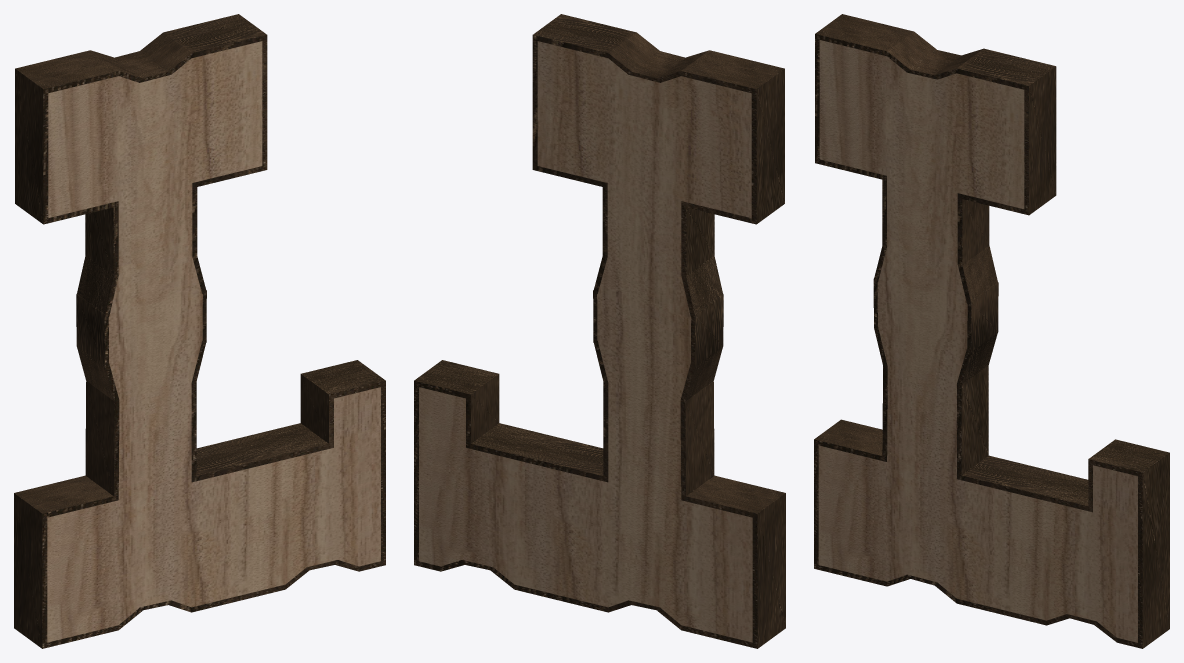
3 renders of one model, left to right at view 1: azimuth 30°, elevation 25°; view 2: azimuth 150°, elevation 25°; view 3: azimuth 330°, elevation 25°, orthographic. The views are drawn at different scales.
Visible parts, largest first — view 1: L, L_outline; view 2: L, L_outline; view 3: L, L_outline.
Boxes of the visible parts, x1,y1,x2,y2 form: L: (47,41,380,642); L_outline: (14,14,385,648); L: (419,41,752,642); L_outline: (414,14,785,648); L: (818,40,1137,642); L_outline: (814,14,1169,648).
Size of the model in its own units: 69.95 by 109 by 10.
Materials: 2 (2 with a texture image).
